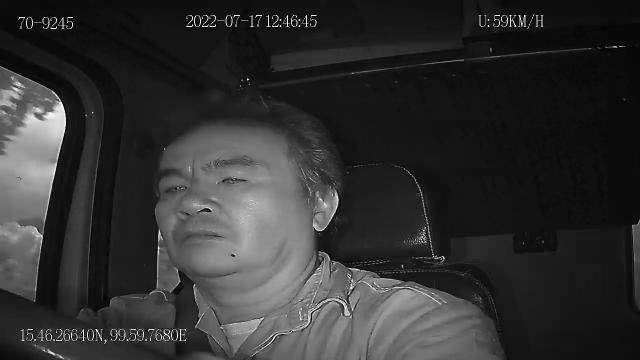SafeDriving: (210, 164, 258, 192), (154, 173, 194, 200)
Seatbelt: (170, 283, 218, 360)
